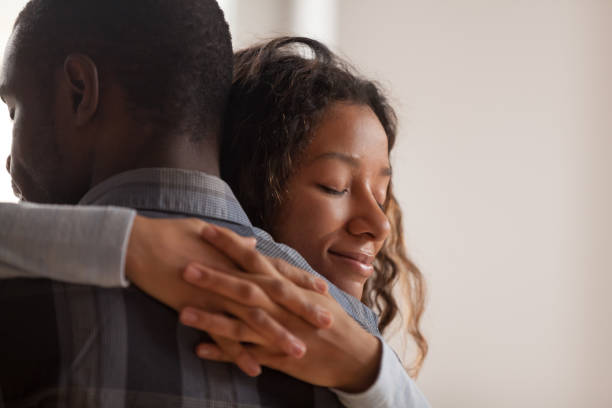without mask: (234, 81, 411, 296), (1, 1, 128, 225)
